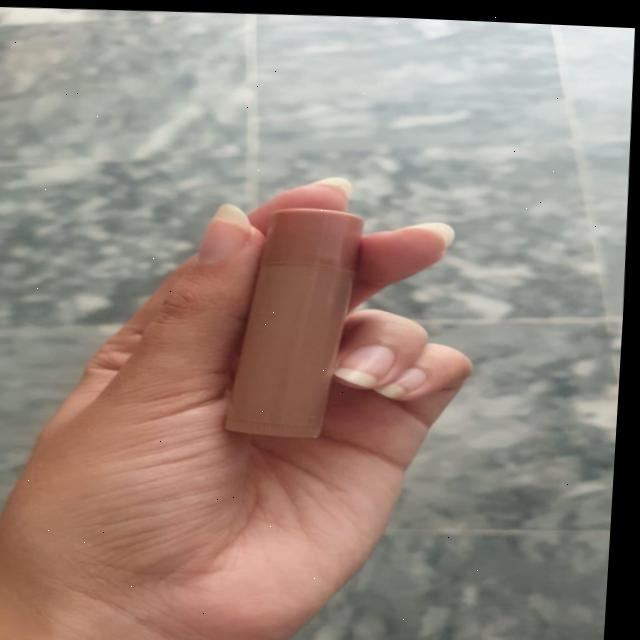lip stick: (210, 175, 381, 464)
